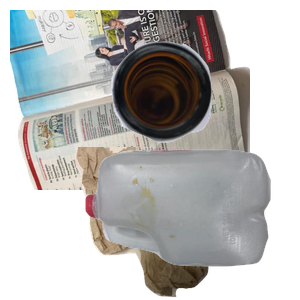glass: (109, 39, 300, 175)
paper: (10, 10, 250, 190)
plastic: (83, 147, 300, 300)
trash: (73, 147, 300, 300)
